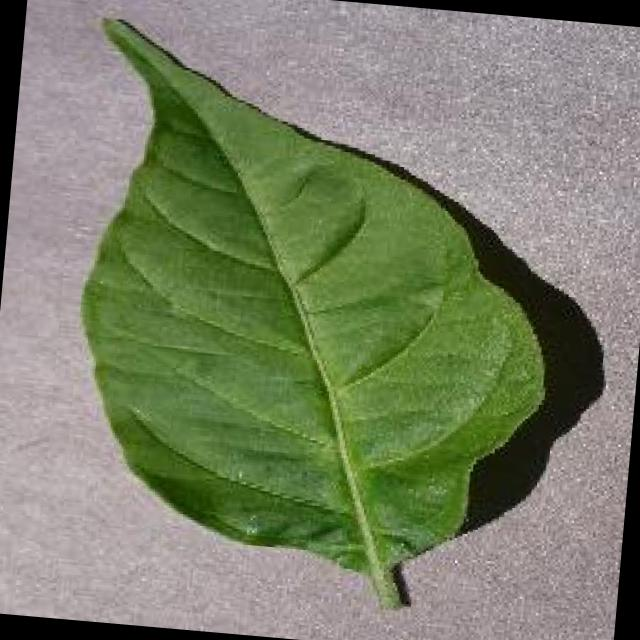Chilli_Healthy: (49, 12, 576, 622)
